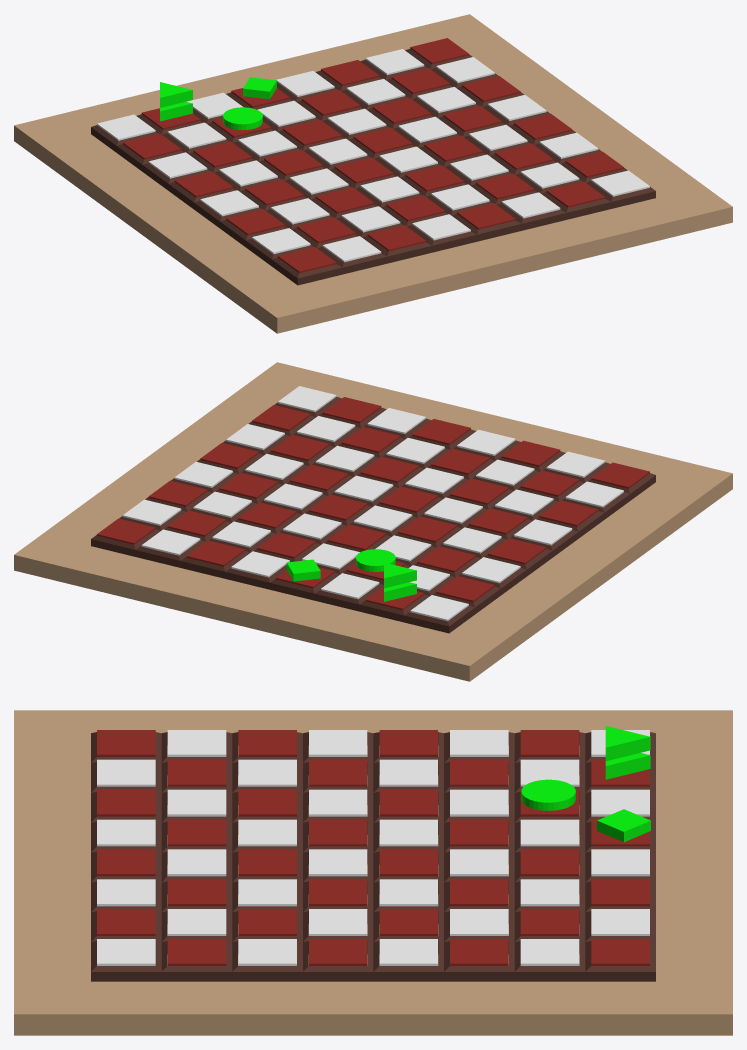
Rendered from chess10.gltf.
The picture shows the model from 3 angles, top to bottom: view 1: azimuth 30°, elevation 25°; view 2: azimuth 150°, elevation 25°; view 3: azimuth 270°, elevation 25°; orthographic projection. The views are drawn at different scales.
Parts seen in each view (by area): view 1: board_base, tile.003, tile.020, tile.053, tile.058, tile, tile.012, tile.017, tile.041, tile.044, tile.056, tile.057 (+62 smaller); view 2: board_base, tile.002, tile.038, tile.060, tile.001, tile.013, tile.016, tile.017, tile.043, tile.047, tile.057, tile.003 (+62 smaller); view 3: board_base, tile.024, tile.031, tile.040, tile.044, tile.046, tile.054, tile.025, tile.042, tile.016, tile.017, tile.018 (+118 smaller).
Part boxes in pixels (left/top/right/bottom): board_base: left=14, top=14, right=732, bottom=333; tile.003: left=334, top=157, right=393, bottom=183; tile.020: left=148, top=152, right=207, bottom=178; tile.053: left=546, top=181, right=605, bottom=207; tile.058: left=315, top=187, right=374, bottom=213; tile: left=353, top=127, right=412, bottom=153; tile.012: left=443, top=105, right=501, bottom=131; tile.017: left=283, top=119, right=341, bottom=145; tile.041: left=457, top=203, right=515, bottom=229; tile.044: left=341, top=206, right=400, bottom=232; tile.056: left=405, top=165, right=463, bottom=191; tile.057: left=360, top=176, right=419, bottom=202; board_base: left=14, top=362, right=732, bottom=681; tile.002: left=353, top=505, right=412, bottom=531; tile.038: left=141, top=529, right=200, bottom=555; tile.060: left=539, top=500, right=598, bottom=526; tile.001: left=334, top=475, right=393, bottom=501; tile.013: left=245, top=453, right=303, bottom=479; tile.016: left=283, top=513, right=341, bottom=539; tile.017: left=327, top=524, right=386, bottom=550; tile.043: left=457, top=429, right=515, bottom=455; tile.047: left=546, top=451, right=605, bottom=477; tile.057: left=405, top=467, right=463, bottom=493; tile.003: left=379, top=486, right=437, bottom=512; board_base: left=14, top=710, right=732, bottom=1035; tile.024: left=520, top=849, right=579, bottom=876; tile.031: left=520, top=879, right=579, bottom=906; tile.040: left=167, top=849, right=226, bottom=876; tile.044: left=167, top=789, right=226, bottom=816; tile.046: left=167, top=759, right=226, bottom=786; tile.054: left=167, top=879, right=226, bottom=906; tile.025: left=520, top=819, right=579, bottom=846; tile.042: left=167, top=819, right=226, bottom=846; tile.016: left=450, top=849, right=508, bottom=876; tile.017: left=450, top=819, right=508, bottom=846; tile.018: left=450, top=789, right=508, bottom=816.
Size of the model in its own units: 20.36 by 2.26 by 20.36.
